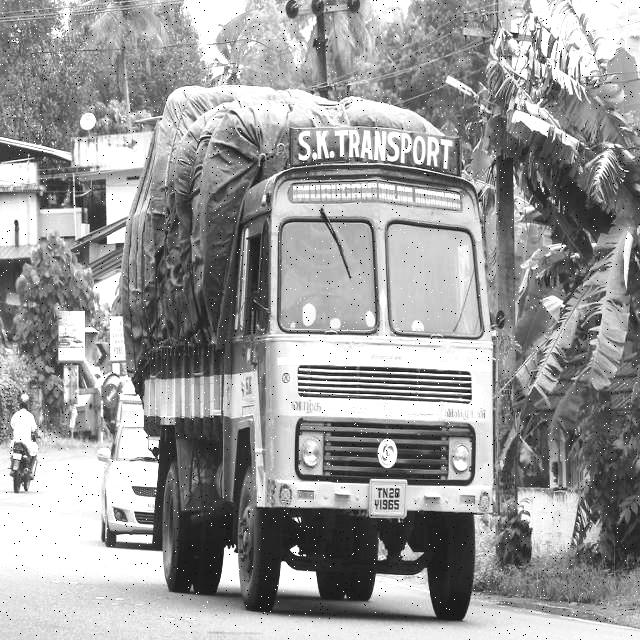HCV: (115, 55, 502, 623)
